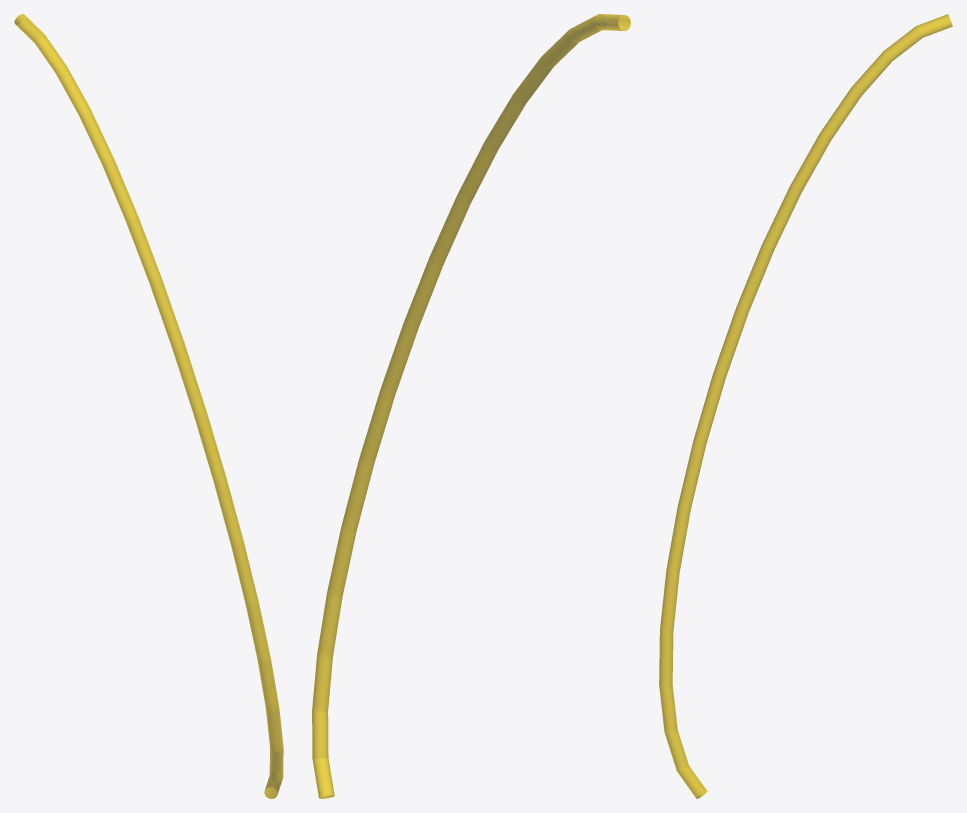
The model's file is Event_419990632_track_3.fbx.
The picture shows the model from 3 angles, left to right: view 1: azimuth 30°, elevation 25°; view 2: azimuth 210°, elevation 25°; view 3: azimuth 270°, elevation 25°; orthographic projection. The views are drawn at different scales.
Parts seen in each view (by area): view 1: Model; view 2: Model; view 3: Model.
Boxes of the visible parts, left/top/right/bottom form: Model: left=14, top=14, right=283, bottom=798; Model: left=312, top=14, right=630, bottom=798; Model: left=659, top=14, right=952, bottom=798.
Bounding box in the file's own units: 0.4715 × 2.35 × 0.8675.
